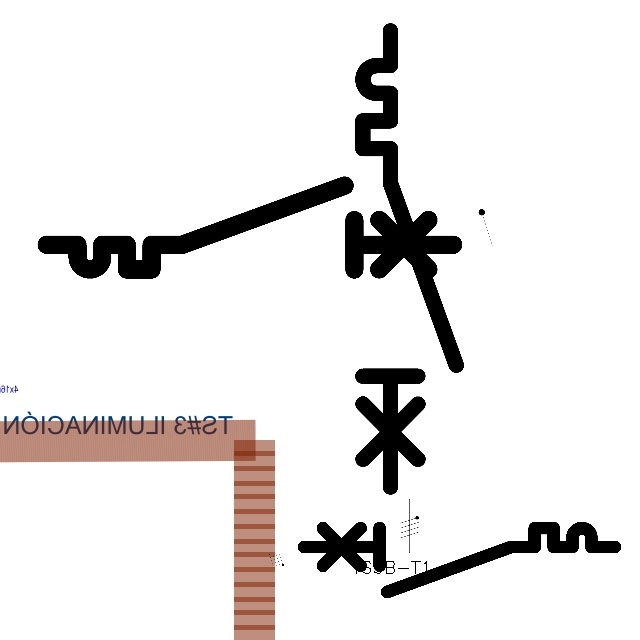interruptor_termomagnetico: (351, 19, 468, 499), (36, 175, 463, 280), (295, 520, 622, 600)
